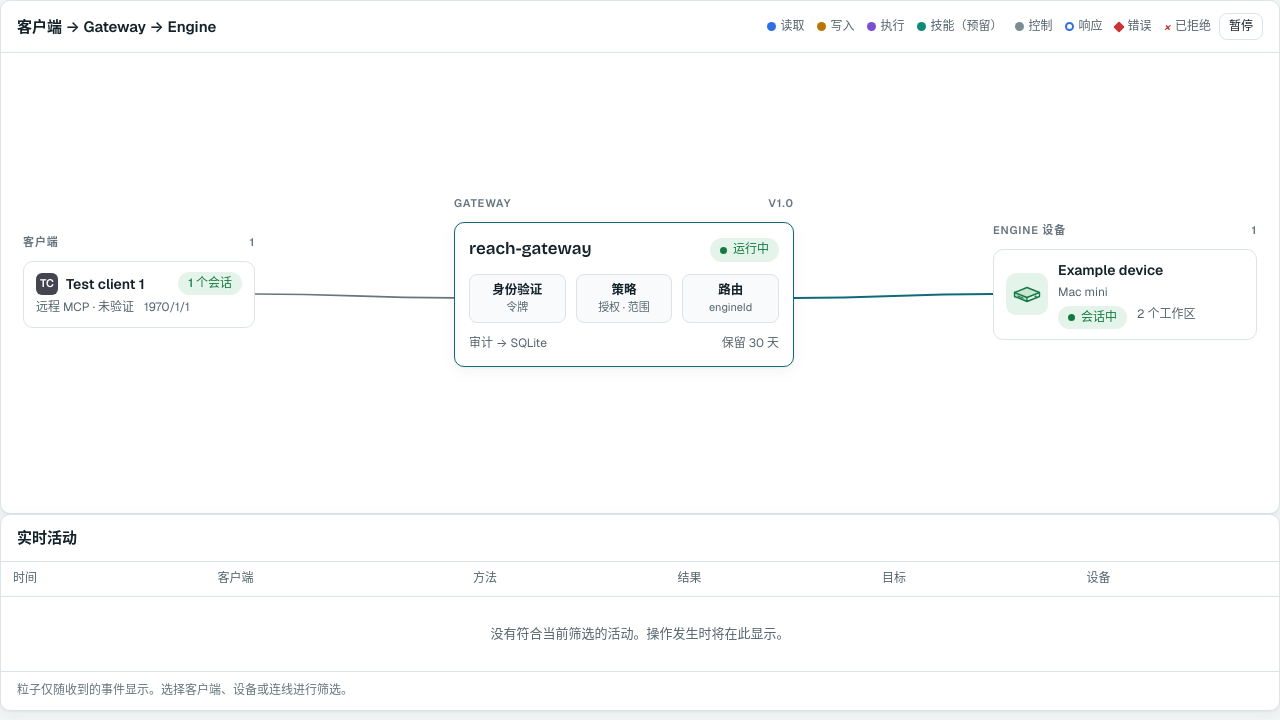
Test case: renders the Chinese Gateway drawer and health warnings
Click the button "reach-gateway" at [624, 294], box x1=454 y1=222 x2=794 y2=367
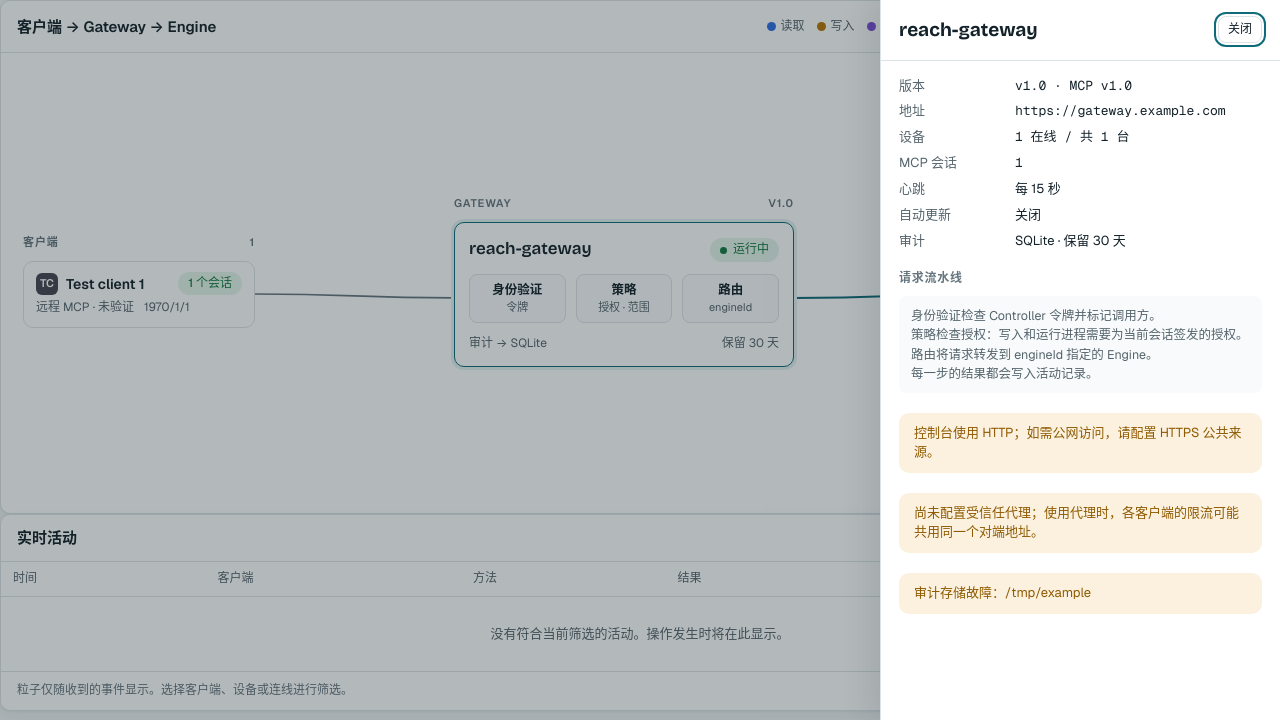
Expected: the dialog named "Gateway 详情" is shown, x1=880 y1=0 x2=1279 y2=719
Expected: the text "审计存储故障：/tmp/example" is shown, x1=899 y1=573 x2=1262 y2=614
